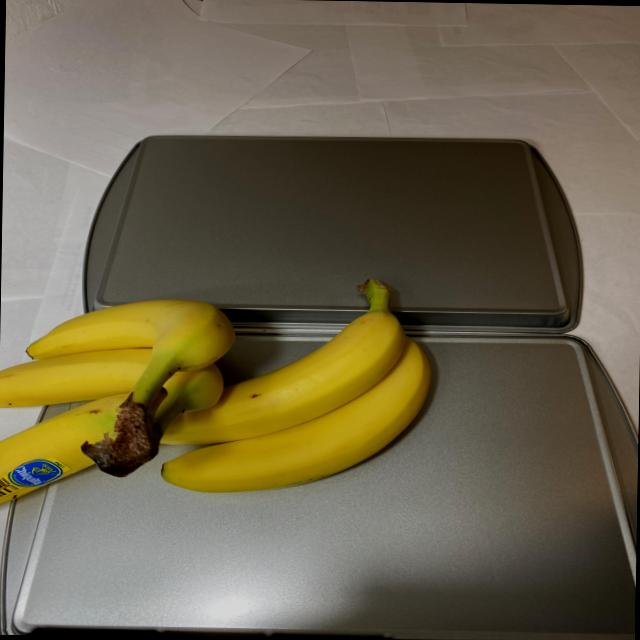banana: (0, 266, 436, 532)
